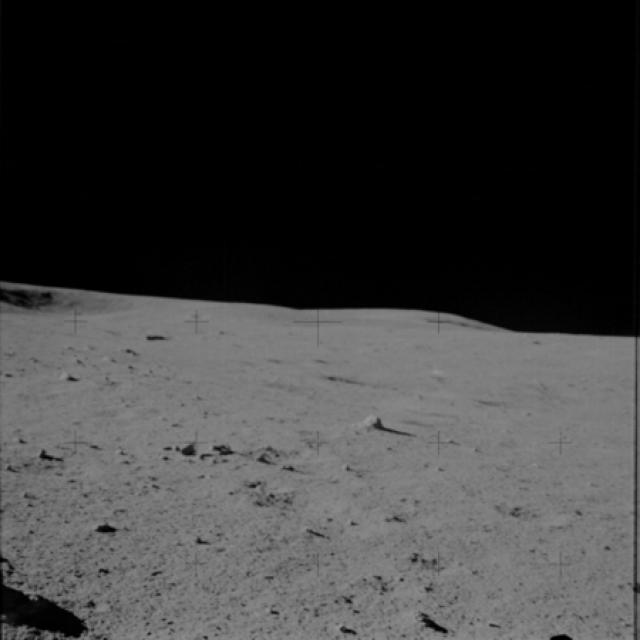crater: (0, 284, 137, 322), (489, 493, 574, 535)
rock: (166, 437, 236, 467), (400, 602, 441, 638), (346, 408, 385, 440), (86, 518, 118, 540), (28, 444, 55, 465)
